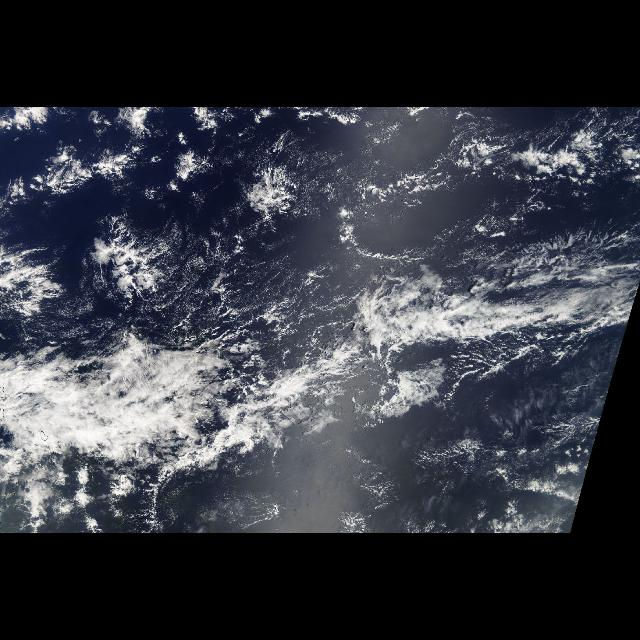Fish: (63, 220, 617, 470)
Flower: (1, 110, 323, 322)
Sugar: (160, 193, 362, 393)
